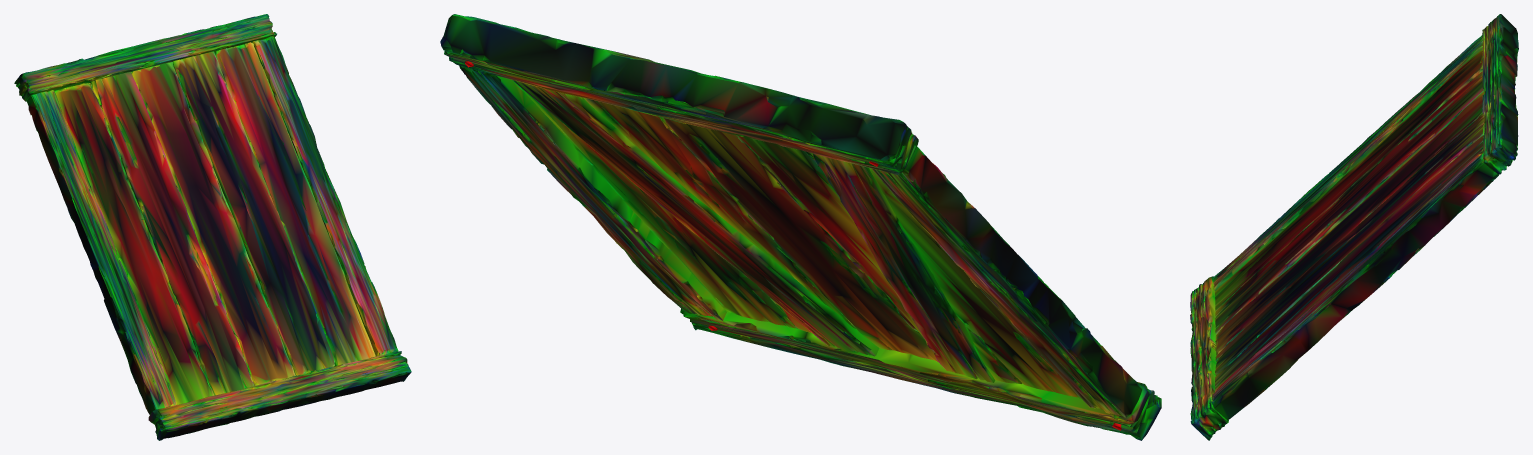
The model's file is SM_Wood_Ramp.fbx.
The picture shows the model from 3 angles, left to right: view 1: azimuth 30°, elevation 25°; view 2: azimuth 150°, elevation 25°; view 3: azimuth 270°, elevation 25°; orthographic projection. The views are drawn at different scales.
Parts seen in each view (by area): view 1: SM_Wood_Ramp_LOD0; view 2: SM_Wood_Ramp_LOD0; view 3: SM_Wood_Ramp_LOD0.
Boxes of the visible parts, box(x1,y1,x2,y2) form: SM_Wood_Ramp_LOD0: box(14, 14, 411, 440); SM_Wood_Ramp_LOD0: box(440, 14, 1161, 440); SM_Wood_Ramp_LOD0: box(1190, 14, 1518, 440).
Bounding box in the file's own units: 308 × 320 × 318.
